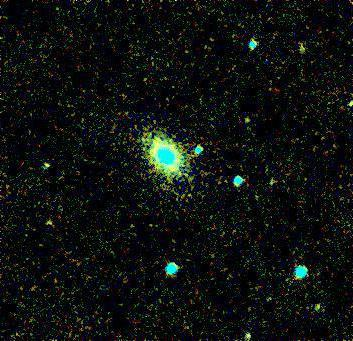star: (232, 108, 262, 138)
